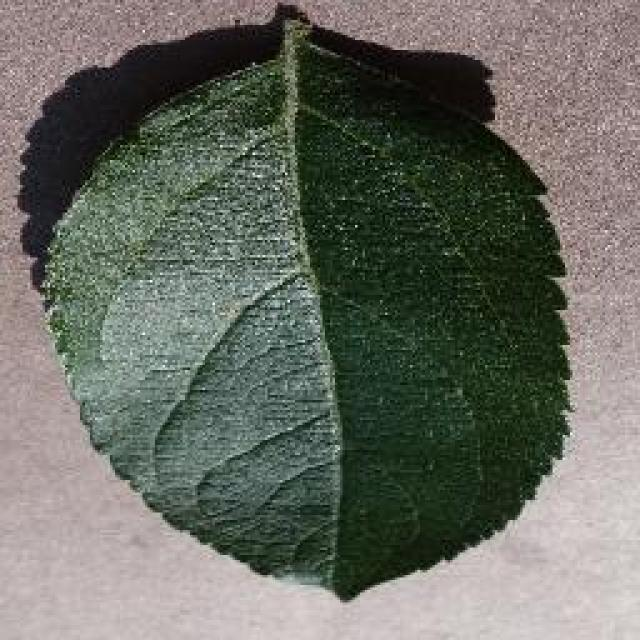apple scab disease: (32, 5, 578, 600)
